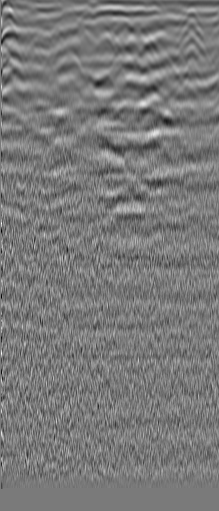오수: (22, 29, 42, 49)
우수: (174, 9, 203, 36)
